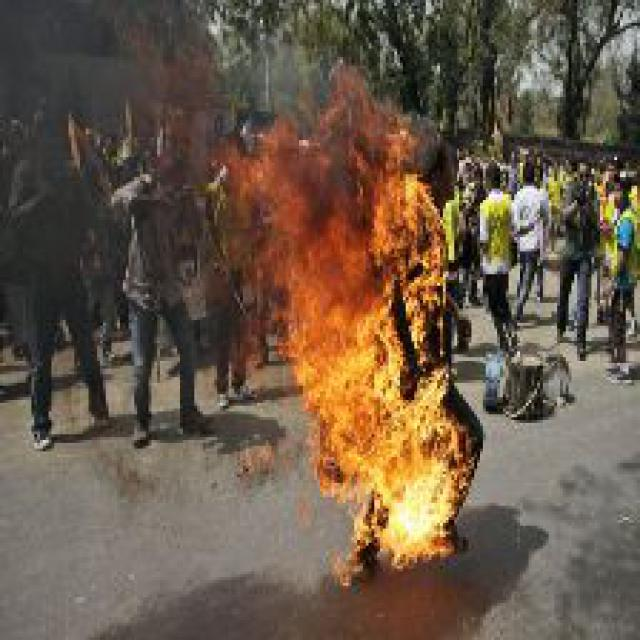fire: (223, 88, 480, 583)
